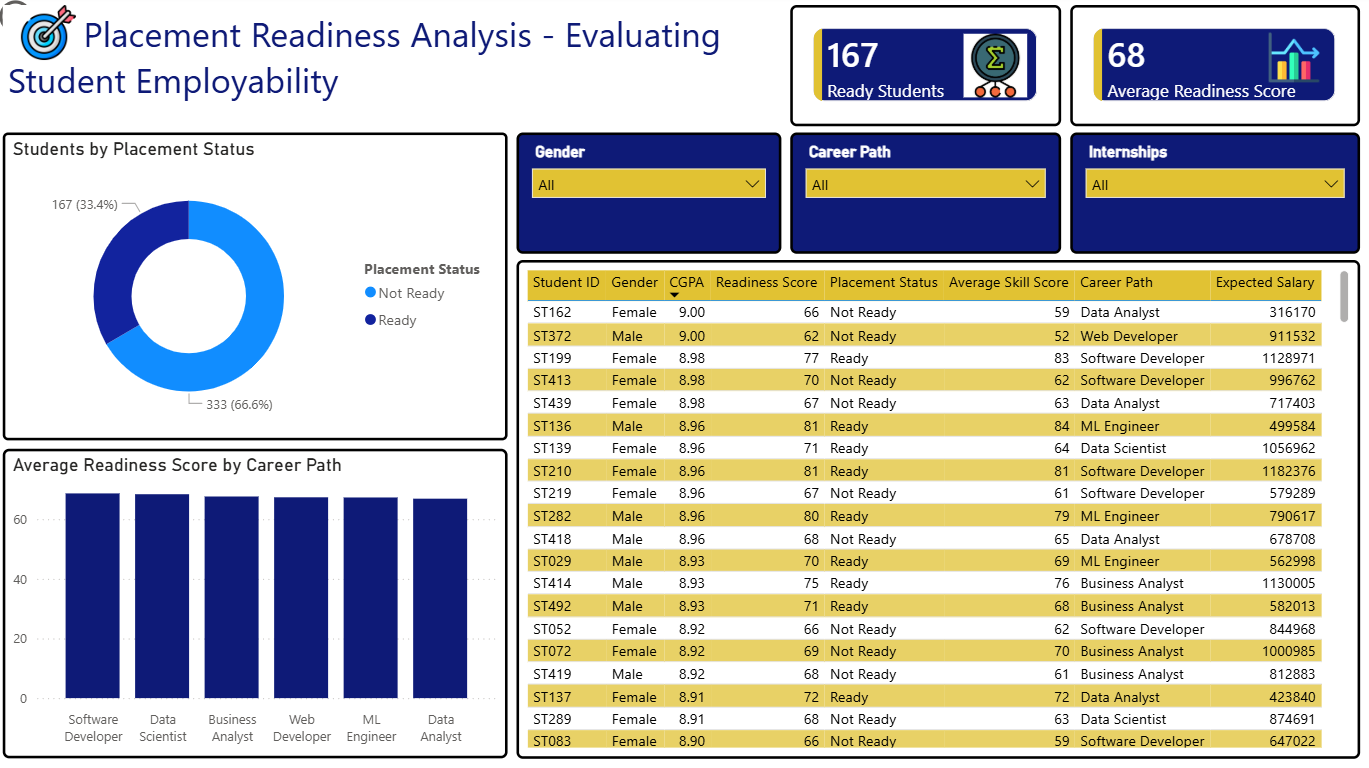

The dashboard page shown, as its layout file describes it:
{"tool":"powerbi","page":{"name":"Page 4","canvas":[1280,720],"ordinal":3},"visuals":[{"type":"donutChart","fields":{"Category":["student_career_analytics.Readiness_Status"],"Y":["CountNonNull(student_career_analytics.Student_ID)"]},"box":[8.1,127.9,469.8,286],"z":0},{"type":"clusteredColumnChart","fields":{"Y":["Avg(student_career_analytics.Readiness_Score)"],"Category":["student_career_analytics.Career_Path"]},"box":[8.1,422.1,469.8,288.4],"z":1000},{"type":"tableEx","fields":{"Values":["student_career_analytics.Student_ID","student_career_analytics.Gender","student_career_analytics.CGPA","Sum(student_career_analytics.Readiness_Score)","student_career_analytics.Readiness_Status","Sum(student_career_analytics.Average_Skill)","student_career_analytics.Career_Path","Sum(student_career_analytics.Excpected_Salary)"]},"box":[486,246.5,784.9,464],"z":2000},{"type":"actionButton","box":[0,0,100,40],"z":3000},{"type":"cardVisual","fields":{"Data":["CountNonNull(student_career_analytics.Ready Students)"]},"box":[740.7,9.3,252.3,112.8],"z":4000},{"type":"cardVisual","fields":{"Data":["Avg(student_career_analytics.Readiness_Score)"]},"box":[1001.2,9.3,269.8,112.8],"z":5000},{"type":"slicer","fields":{"Values":["student_career_analytics.Gender"]},"box":[486,127.9,246.5,112.8],"z":6000},{"type":"slicer","fields":{"Values":["student_career_analytics.Internships"]},"box":[1001.2,127.9,269.8,112.8],"z":7000},{"type":"textbox","box":[8.1,9.3,724.4,112.8],"z":8000},{"type":"slicer","fields":{"Values":["student_career_analytics.Career_Path"]},"box":[740.7,127.9,252.3,112.8],"z":9000},{"type":"image","box":[18.6,9.3,64,51.2],"z":10002},{"type":"image","box":[1172.1,34.9,74.4,46.5],"z":11504},{"type":"image","box":[890.7,36,81.4,59.3],"z":12005}]}

Visuals, with their boxes in screenshot pixels (x1, y1, x2, y2), scaled from the page's 1280x720 canvas onto the 1369x768 screenshot:
donutChart - student_career_analytics.Readiness_Status x CountNonNull(student_career_analytics.Student_ID): <bbox>9, 136, 511, 441</bbox>
clusteredColumnChart - Avg(student_career_analytics.Readiness_Score) x student_career_analytics.Career_Path: <bbox>9, 450, 511, 758</bbox>
tableEx - student_career_analytics.Student_ID x student_career_analytics.Gender: <bbox>520, 263, 1359, 758</bbox>
actionButton: <bbox>0, 0, 107, 43</bbox>
cardVisual - CountNonNull(student_career_analytics.Ready Students): <bbox>792, 10, 1062, 130</bbox>
cardVisual - Avg(student_career_analytics.Readiness_Score): <bbox>1071, 10, 1359, 130</bbox>
slicer - student_career_analytics.Gender: <bbox>520, 136, 783, 257</bbox>
slicer - student_career_analytics.Internships: <bbox>1071, 136, 1359, 257</bbox>
textbox: <bbox>9, 10, 783, 130</bbox>
slicer - student_career_analytics.Career_Path: <bbox>792, 136, 1062, 257</bbox>
image: <bbox>20, 10, 88, 65</bbox>
image: <bbox>1254, 37, 1333, 87</bbox>
image: <bbox>953, 38, 1040, 102</bbox>
